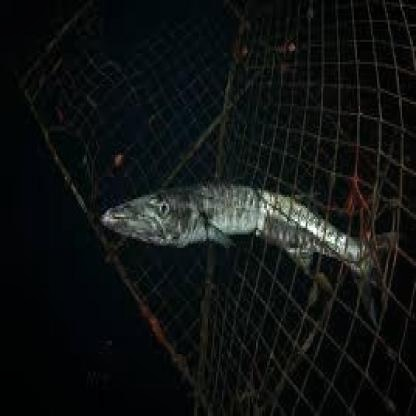net: (217, 42, 416, 412)
